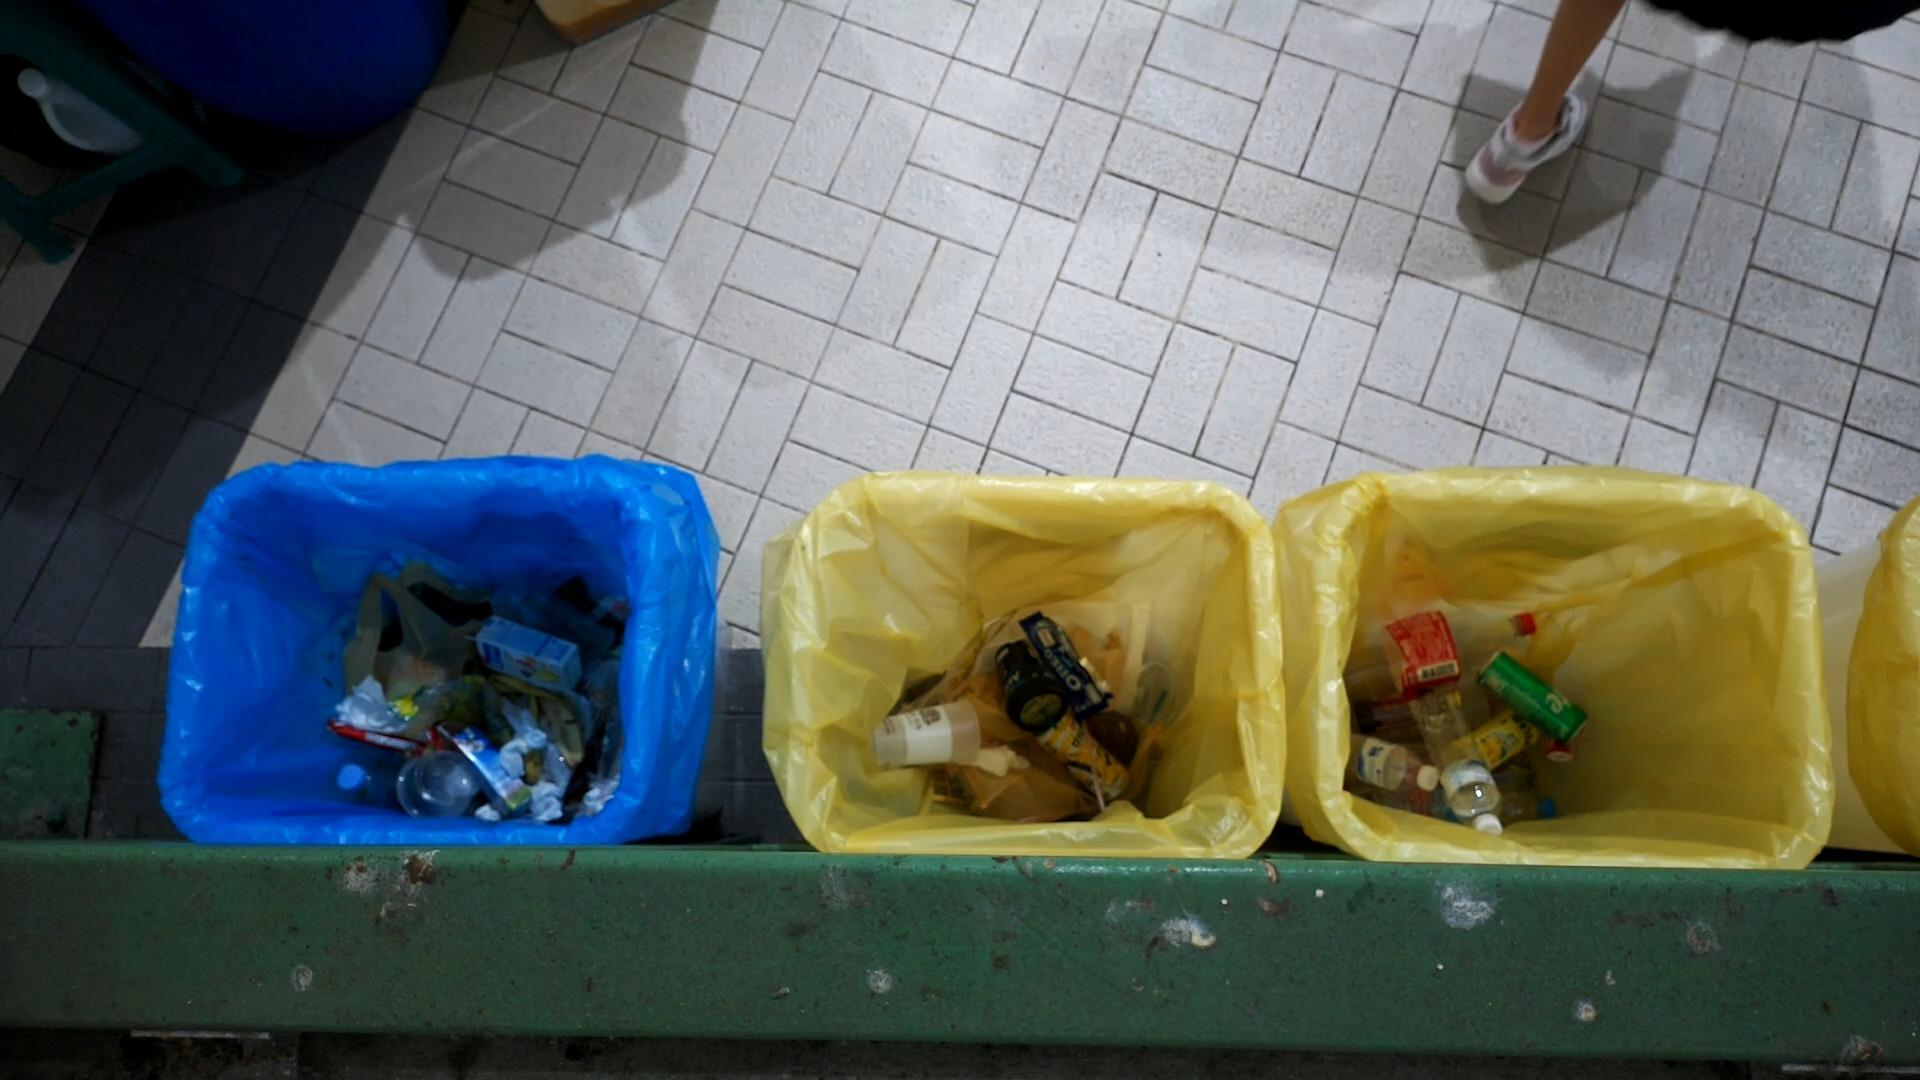can: (1474, 647, 1590, 749), (1035, 712, 1134, 807)
filled plastic bag: (335, 556, 488, 698)
milk carton: (475, 613, 588, 696), (450, 724, 534, 823)
plastic bag: (1110, 601, 1153, 719)
plastic bottle: (1338, 609, 1539, 709), (1408, 683, 1503, 837), (1344, 729, 1441, 793), (332, 754, 398, 814)
plastic cup: (512, 579, 618, 667), (873, 696, 982, 771), (993, 638, 1073, 736), (394, 748, 479, 820), (1114, 653, 1179, 733)
snack packaging: (1018, 608, 1117, 727), (386, 673, 512, 745), (326, 715, 443, 760)
straw: (1083, 721, 1108, 814), (1146, 690, 1167, 727)
tissue paper: (332, 674, 409, 733), (497, 695, 546, 777), (971, 742, 1033, 777), (579, 778, 624, 818), (526, 781, 563, 824), (473, 804, 505, 822)
